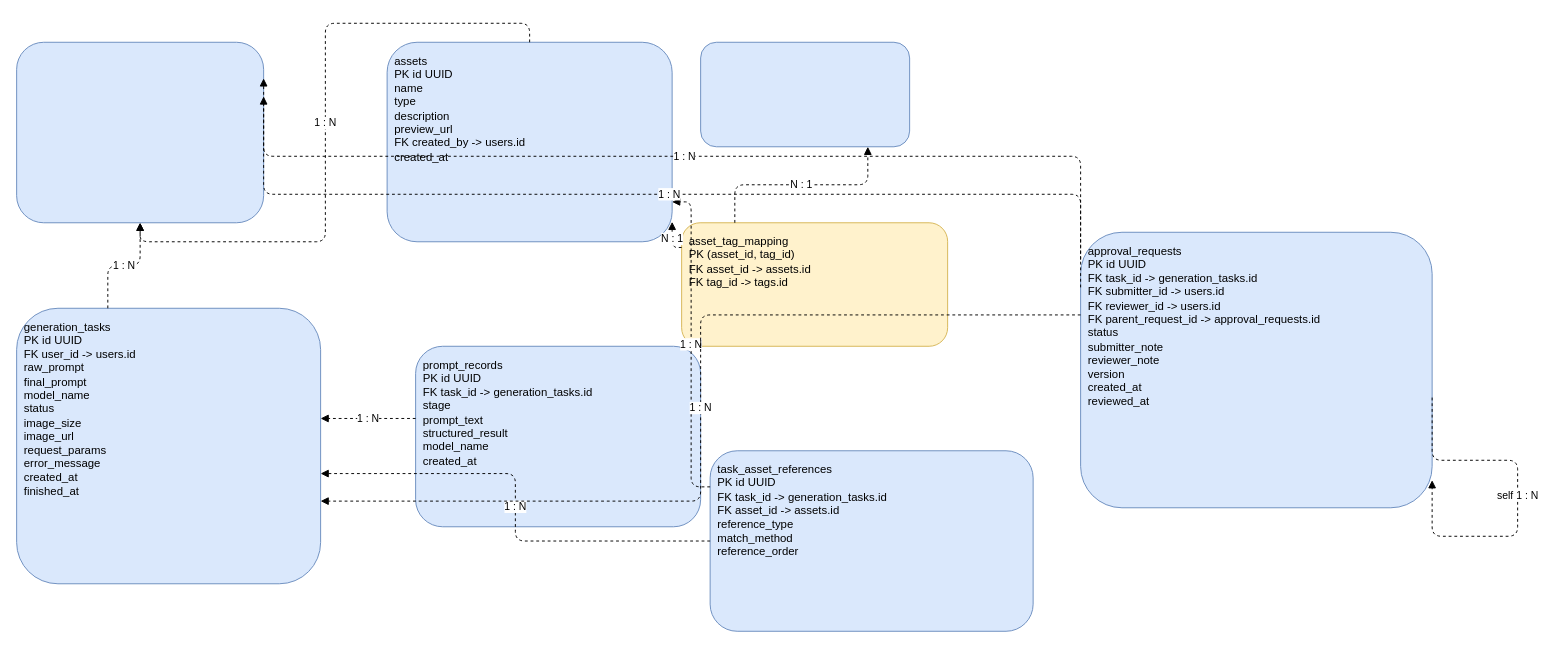
Some shapes in this 1554 by 648 pixel diagram are drawn without their labels. Here are the shapes that lost their labels. From the top down, the box of each, then its label:
(700, 41, 910, 147): tags PK id UUID name (UNIQUE)
(16, 41, 264, 223): users PK id UUID username (UNIQUE) password_hash display_name role created_at
